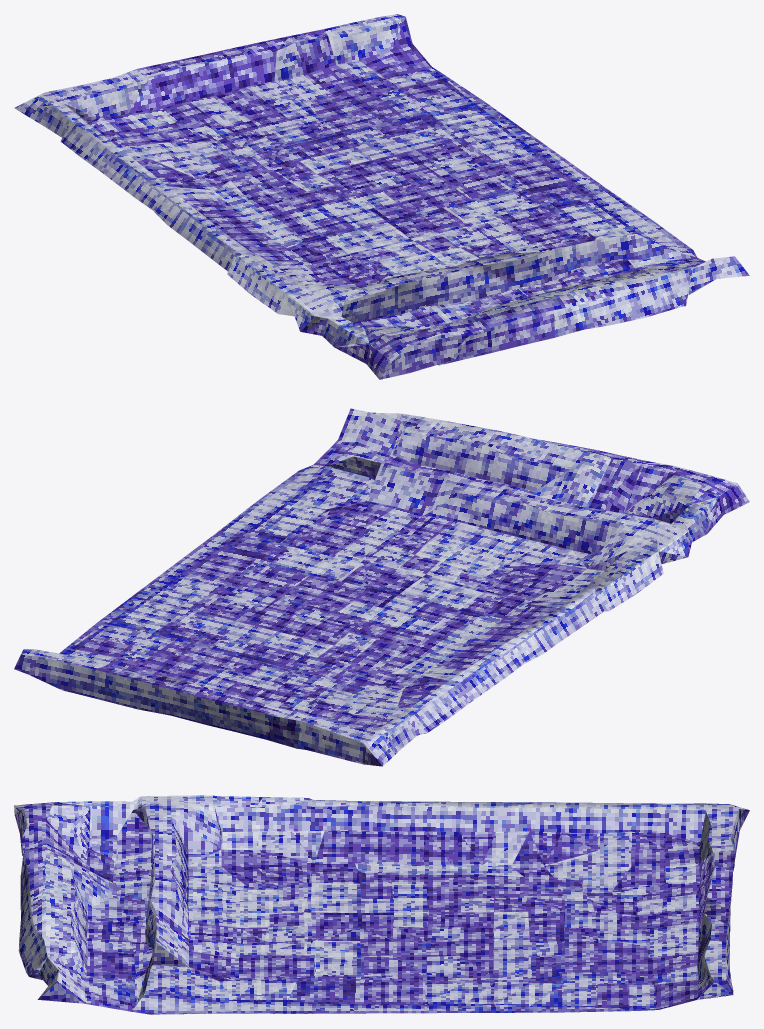
File: rag.glb
The picture shows the model from 3 angles, top to bottom: view 1: azimuth 30°, elevation 25°; view 2: azimuth 150°, elevation 25°; view 3: azimuth 270°, elevation 25°; orthographic projection.
Visible parts, largest first — view 1: mesh; view 2: mesh; view 3: mesh.
Boxes of the visible parts, x1=… form: mesh: x1=14, y1=14, x2=749, y2=379; mesh: x1=14, y1=408, x2=749, y2=766; mesh: x1=14, y1=795, x2=749, y2=1014.
Bounding box in the file's own units: 0.4541 × 0.042 × 0.7356.
1 material, 1 textured.
